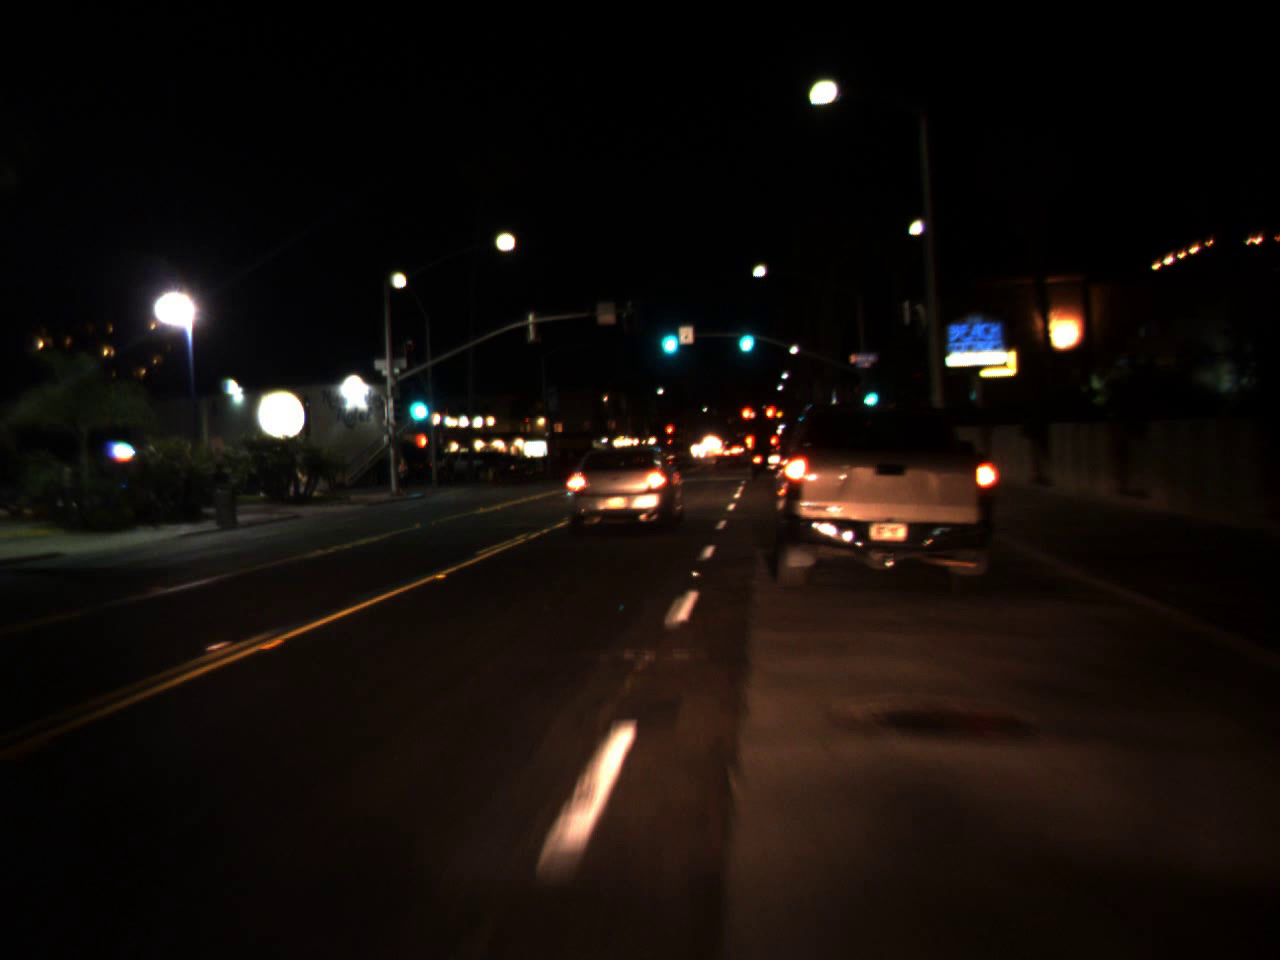go: (401, 375, 433, 429), (654, 310, 682, 361), (733, 313, 756, 358), (857, 377, 880, 410)
